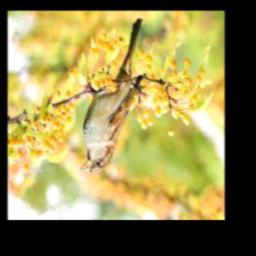Sparrow: (81, 18, 142, 174)
